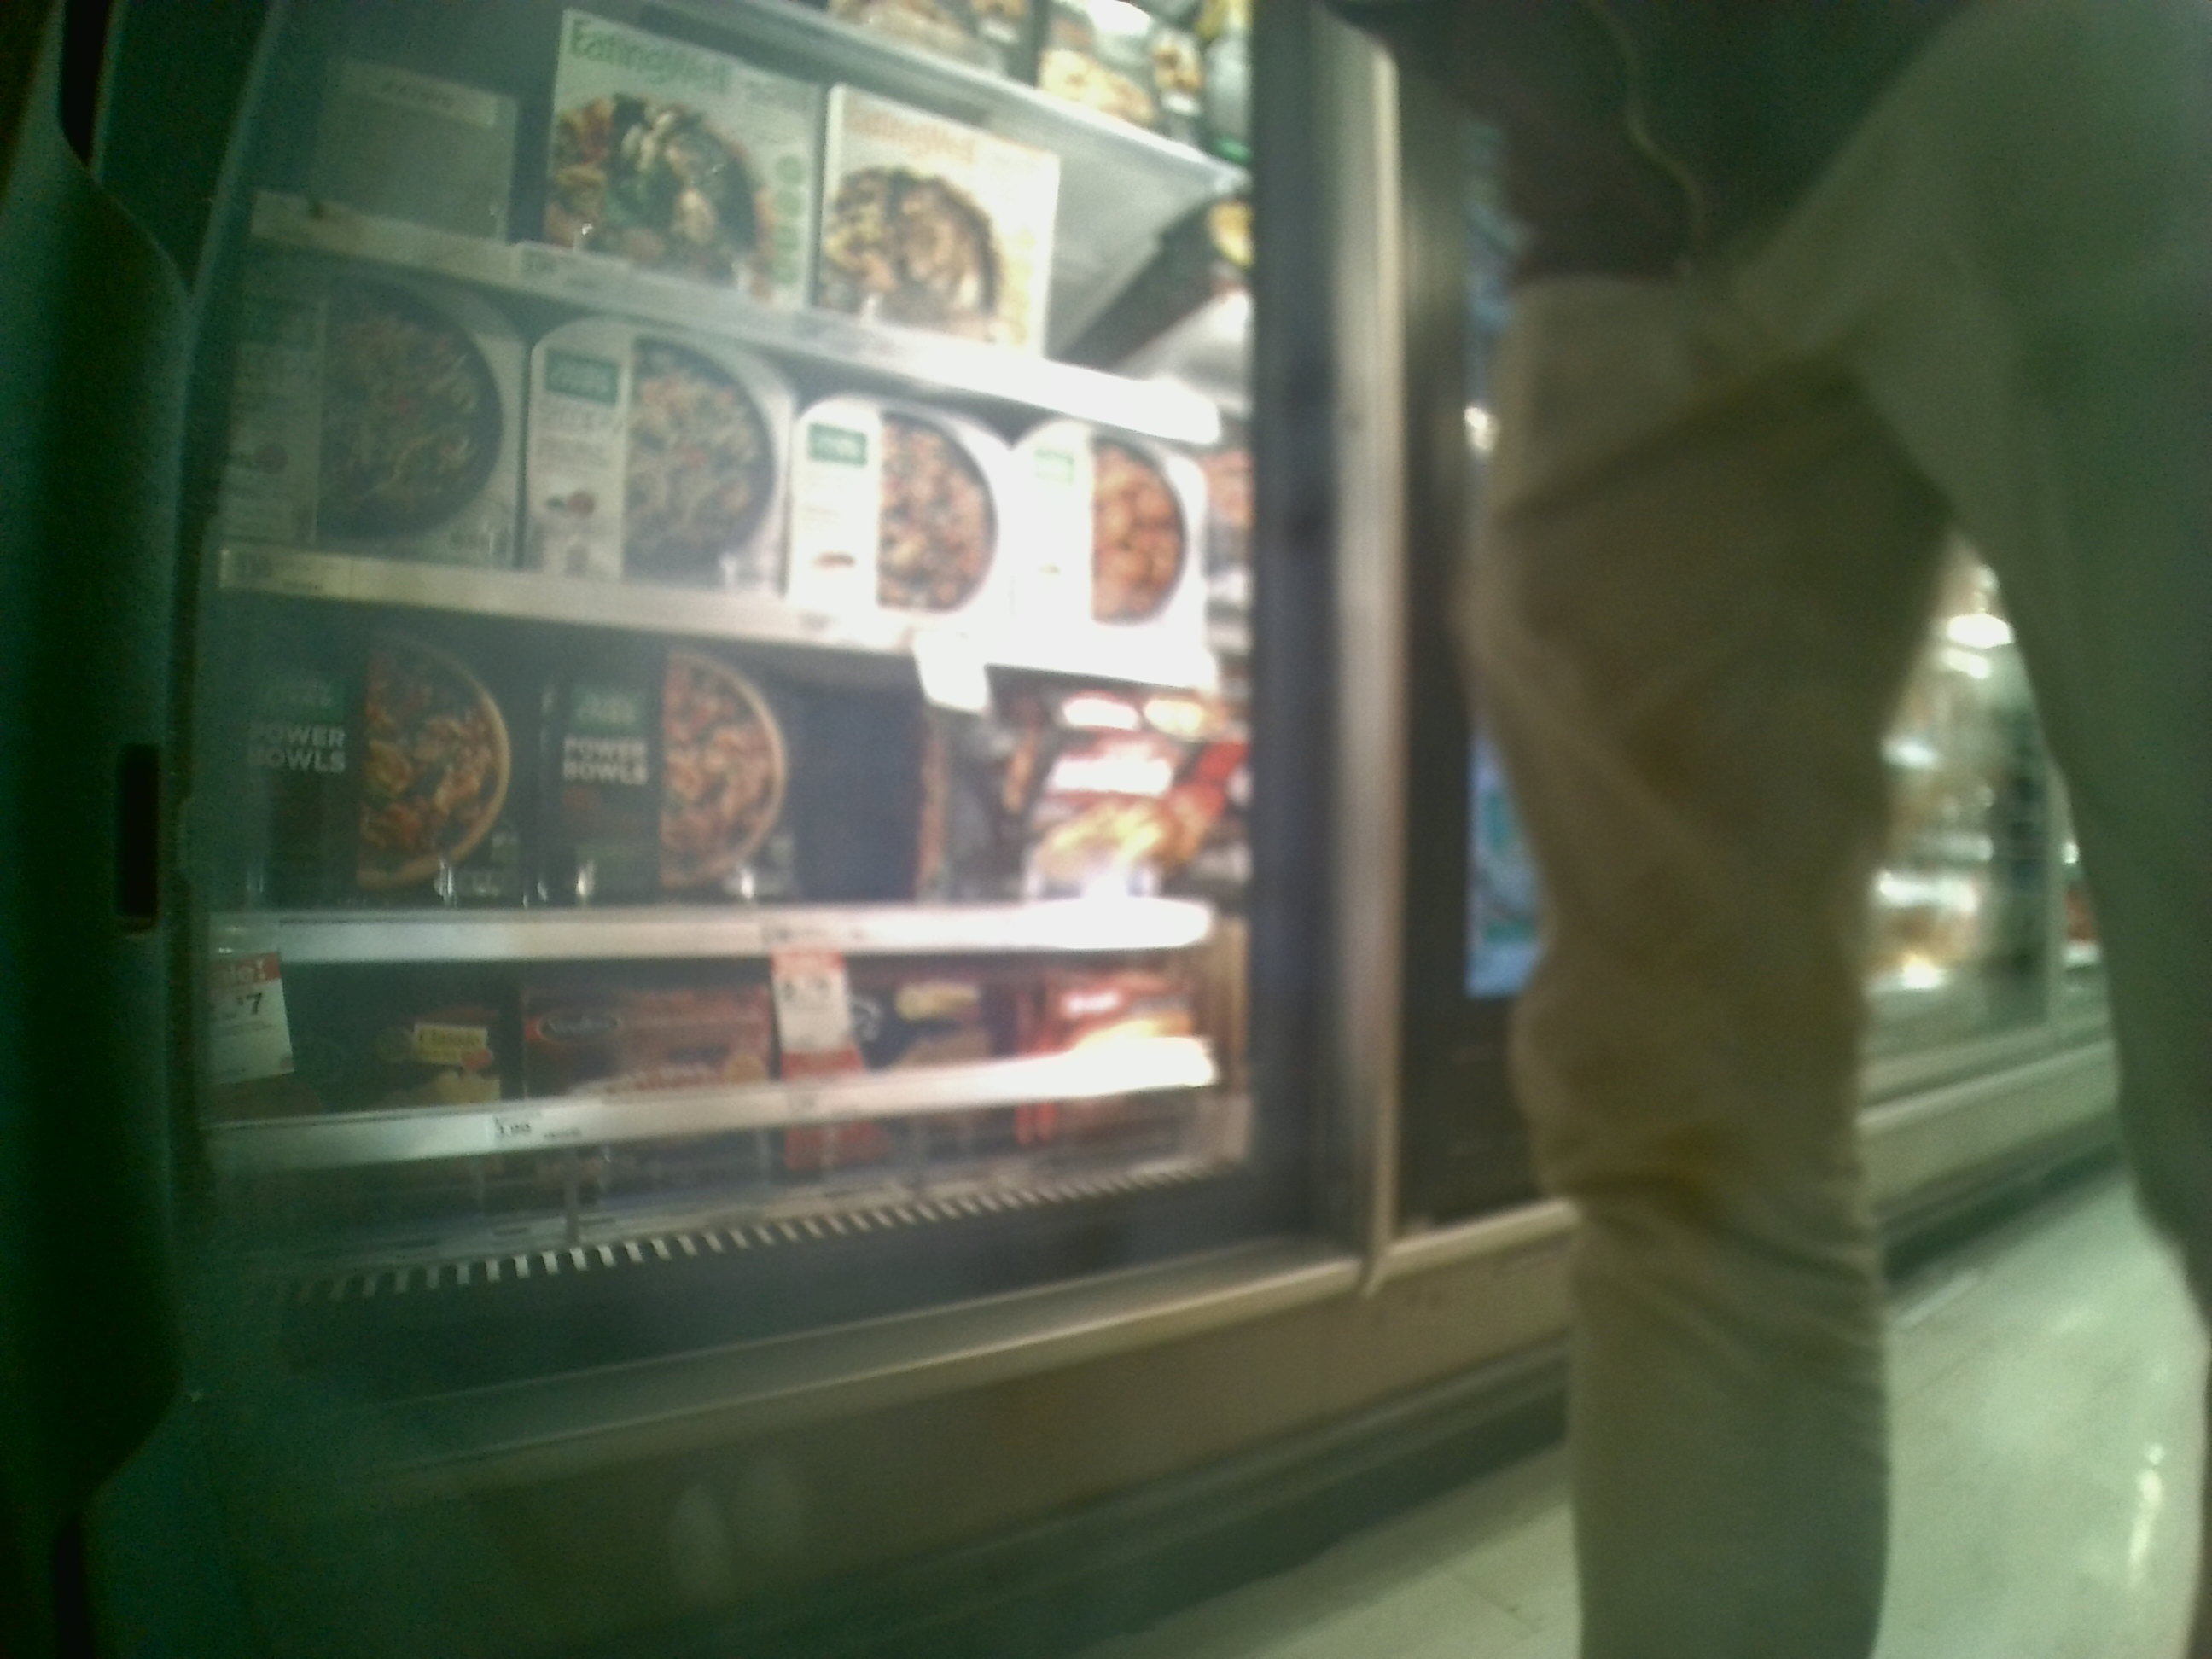pizza: (216, 256, 517, 556), (237, 603, 514, 908), (542, 617, 810, 920), (523, 310, 782, 582), (542, 17, 806, 275), (822, 84, 1049, 342), (801, 390, 1029, 612), (1035, 425, 1209, 627)
